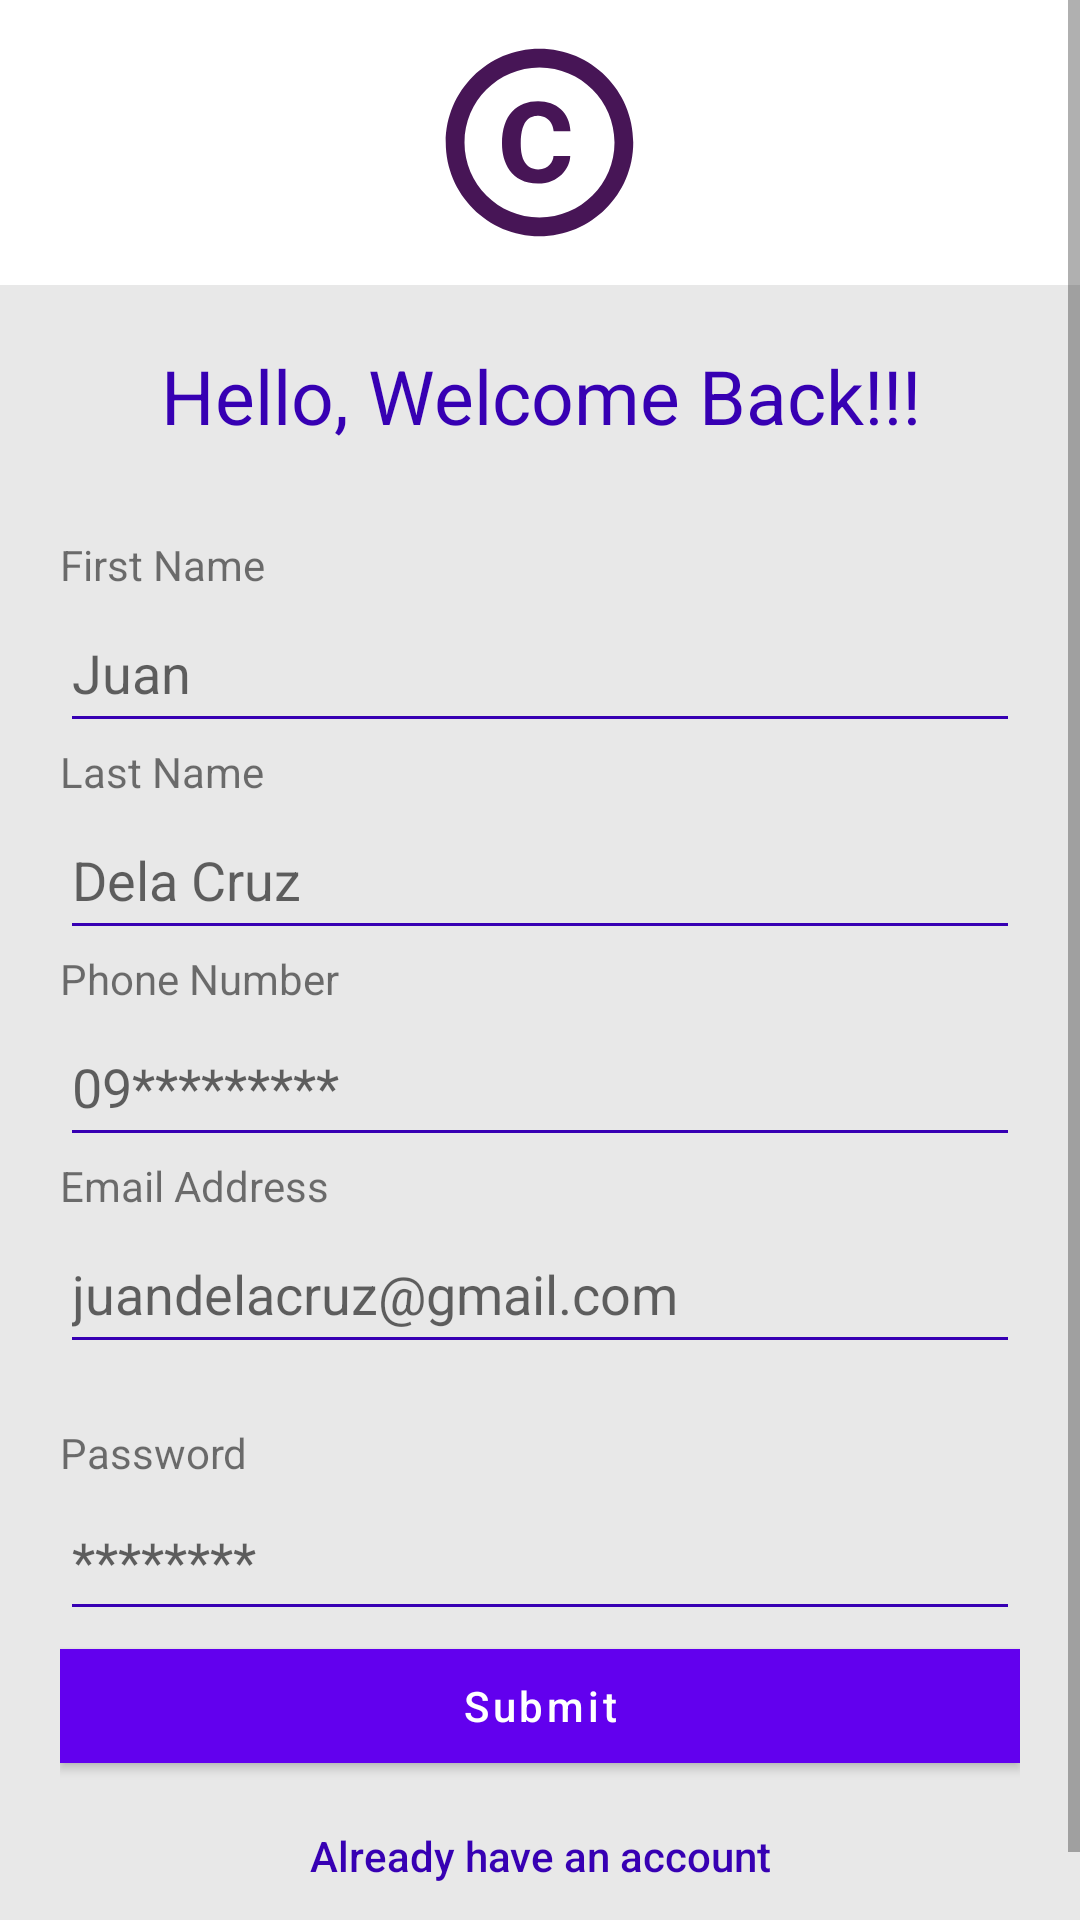

Where icons sit on this 1080w x 1920h app screen, as (x1, y1, x2, y2):
copyright: (445, 48, 634, 237)
